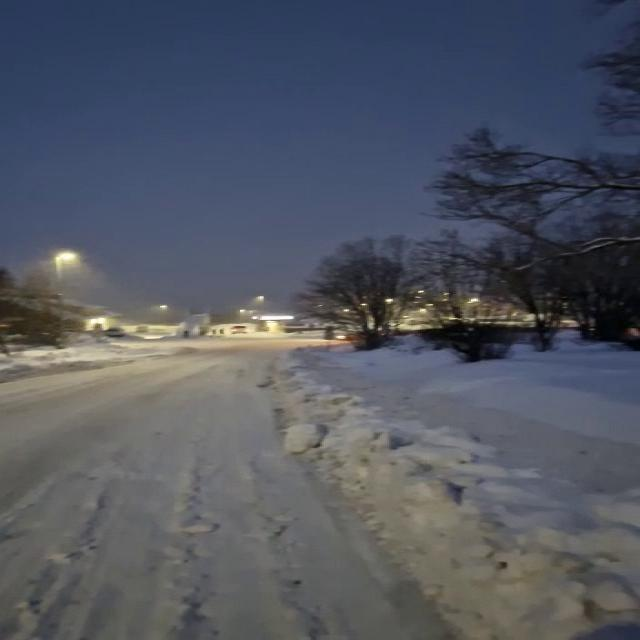path: (2, 339, 453, 640)
